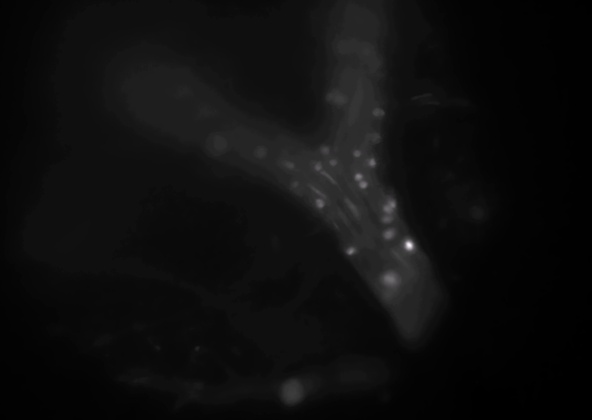cell: (402, 238, 416, 252), (371, 105, 385, 119), (349, 147, 363, 161), (366, 156, 380, 170), (317, 142, 331, 156), (310, 158, 324, 172), (325, 156, 339, 170), (323, 89, 337, 103), (350, 169, 364, 183), (331, 94, 345, 108), (356, 179, 370, 193), (343, 246, 357, 260), (382, 271, 396, 285), (382, 228, 396, 242), (386, 198, 400, 212), (378, 211, 392, 225), (383, 201, 397, 215), (313, 195, 327, 209), (289, 178, 303, 192), (253, 144, 267, 158), (208, 136, 222, 150), (358, 43, 372, 57), (368, 53, 382, 67), (332, 39, 346, 53), (369, 130, 383, 144), (283, 158, 297, 172)
